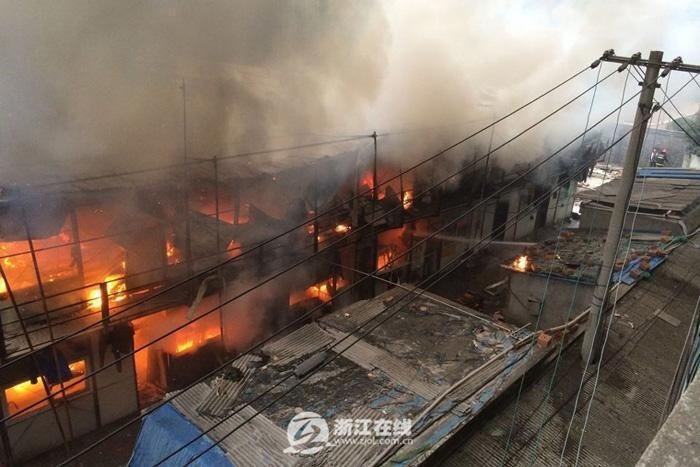fire: (88, 268, 128, 309), (304, 275, 339, 300), (508, 250, 531, 271), (165, 240, 177, 260)
